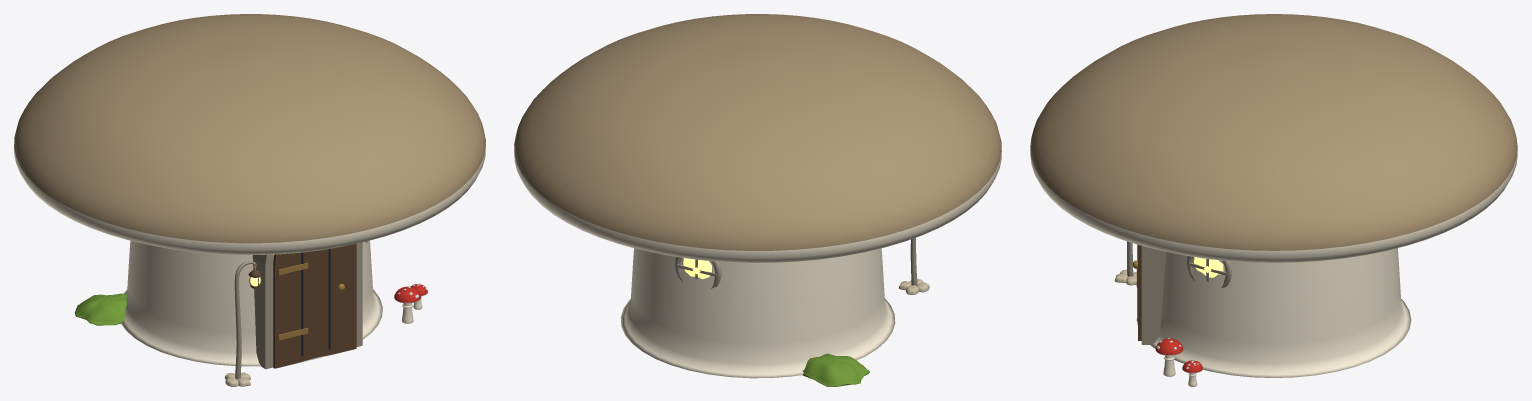
The model's file is sh_toadstool_cottage_tan.fbx.
3 views of the same model, side by side, from view 1: azimuth 30°, elevation 25°; view 2: azimuth 150°, elevation 25°; view 3: azimuth 270°, elevation 25° (orthographic). The views are drawn at different scales.
Visible parts, largest first — view 1: SH_Toadstool_Cottage_Tan; view 2: SH_Toadstool_Cottage_Tan; view 3: SH_Toadstool_Cottage_Tan.
Boxes of the visible parts, x1,y1,x2,y2 form: SH_Toadstool_Cottage_Tan: (14,14,485,386); SH_Toadstool_Cottage_Tan: (514,14,1001,386); SH_Toadstool_Cottage_Tan: (1030,14,1517,386).
Bounding box in the file's own units: 210 × 127 × 210.
